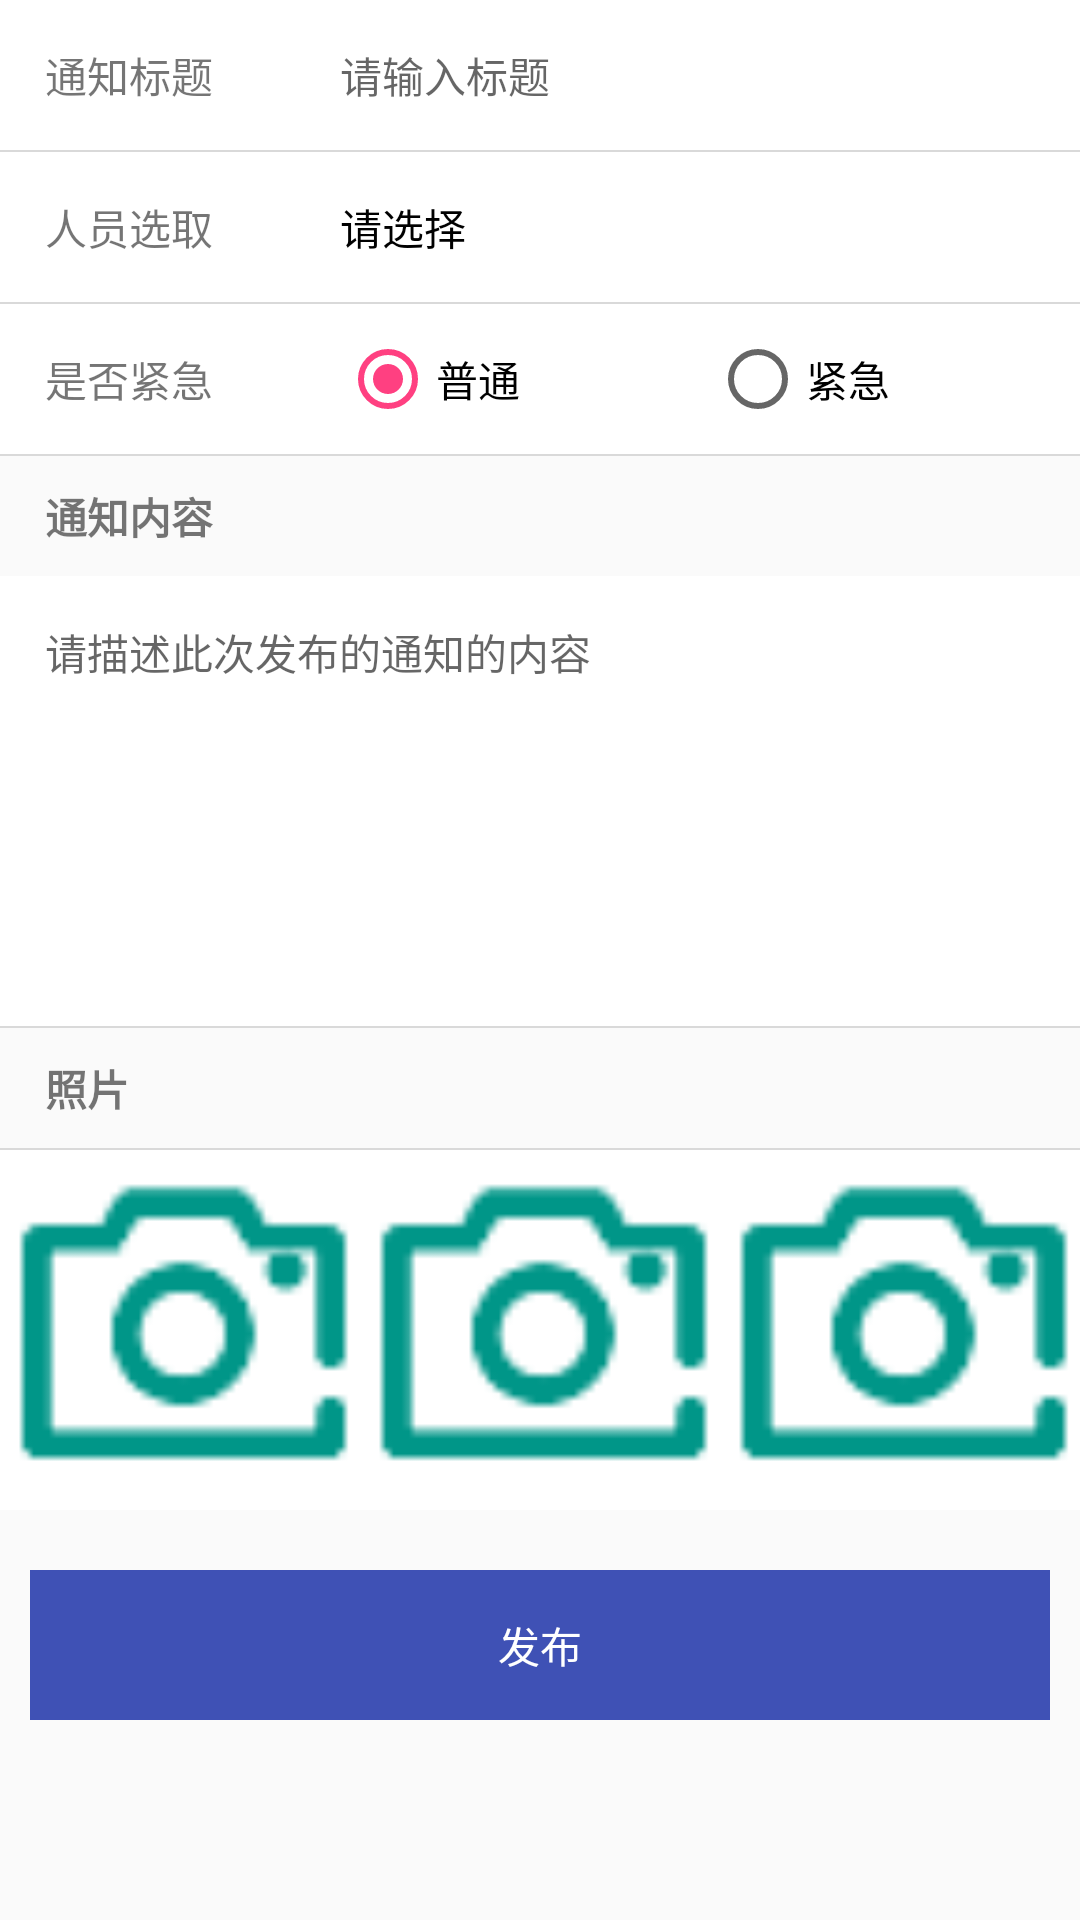

Named icons in this screenshot (1080 × 1920) and their bounding boxes, (x1, y1, x2, y2):
take camera: (19, 1185, 348, 1461), (379, 1185, 708, 1461), (739, 1185, 1068, 1461)
